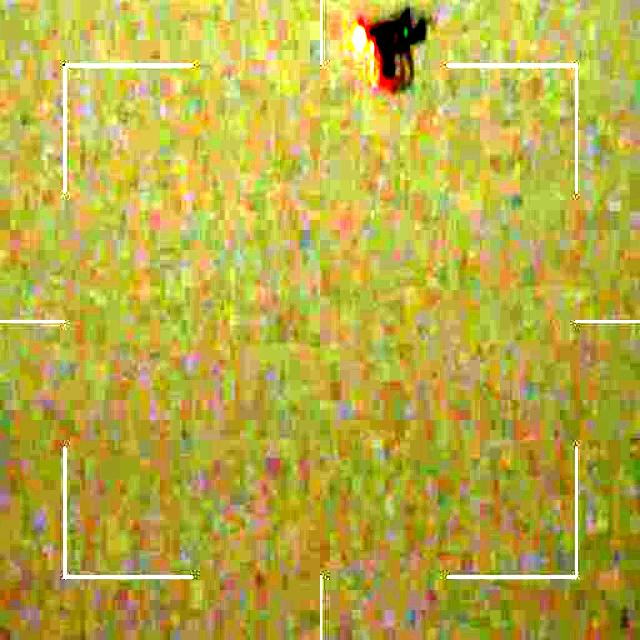bird: (341, 2, 431, 90)
